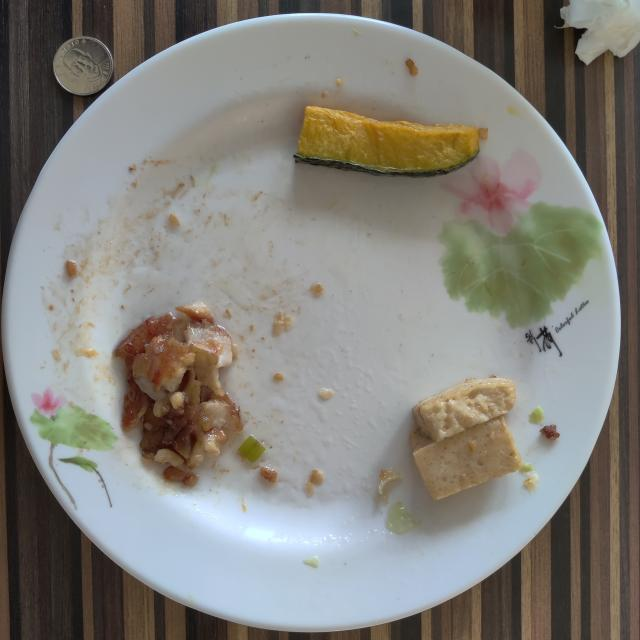Kabayaki sea bream fillet: (115, 302, 242, 486)
coin: (52, 36, 114, 95)
creamy tofu -without sauce-: (410, 376, 522, 500)
pumpkin: (294, 106, 480, 178)
